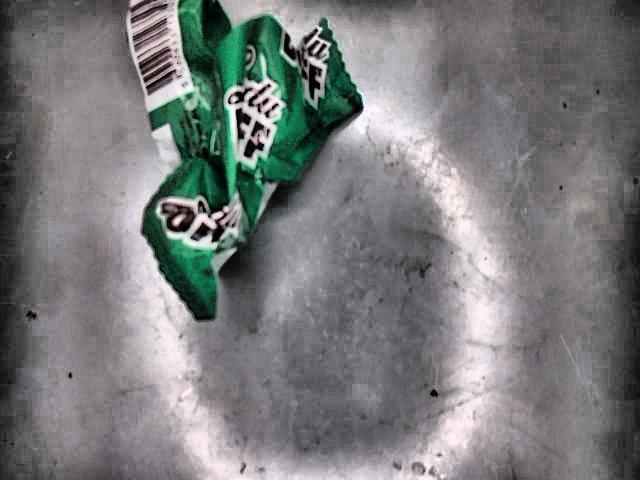Plastic: (127, 0, 365, 323)
